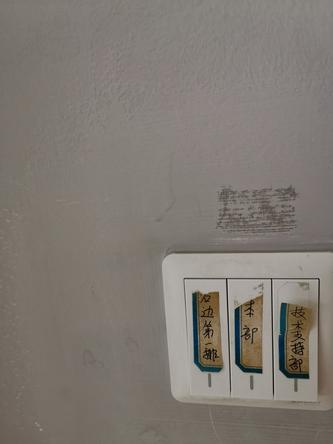switch: (219, 269, 279, 402), (267, 275, 325, 412), (177, 273, 233, 402)
